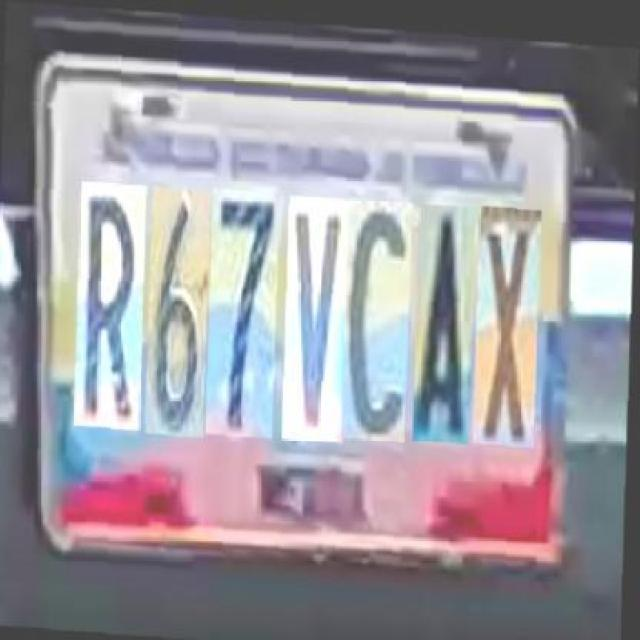6: (146, 182, 208, 430)
7: (206, 182, 277, 429)
a: (413, 189, 473, 429)
c: (342, 186, 409, 429)
r: (74, 179, 144, 426)
v: (283, 186, 348, 431)
x: (473, 190, 538, 430)
